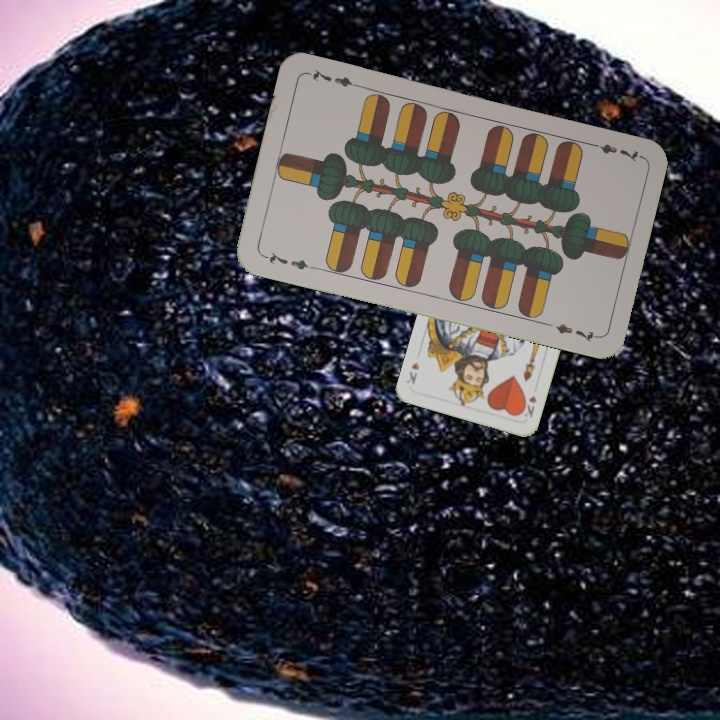E7: (584, 138, 643, 165), (259, 247, 318, 273)
HK: (517, 392, 539, 420)
